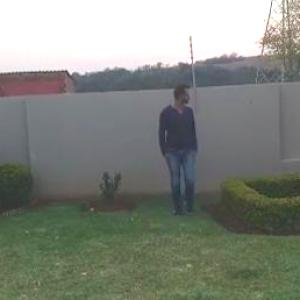follow: (154, 79, 199, 226)
